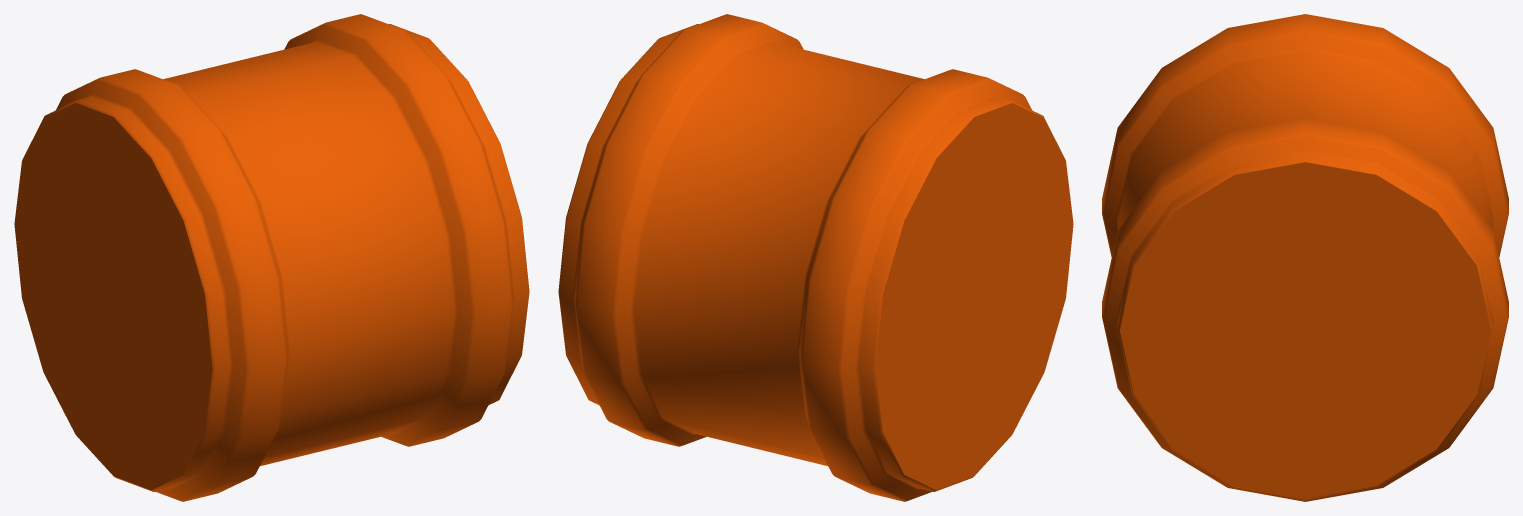
Rendered from PVC_D160_X2.FBX.
3 renders of one model, left to right at view 1: azimuth 30°, elevation 25°; view 2: azimuth 150°, elevation 25°; view 3: azimuth 270°, elevation 25°, orthographic. The views are drawn at different scales.
Visible parts, largest first — view 1: PVC_D160_X2; view 2: PVC_D160_X2; view 3: PVC_D160_X2.
Part boxes in pixels (x1=…): PVC_D160_X2: x1=14, y1=14, x2=529, y2=501; PVC_D160_X2: x1=558, y1=14, x2=1073, y2=501; PVC_D160_X2: x1=1102, y1=14, x2=1508, y2=501.
Bounding box in the file's own units: 15.8 × 18.74 × 18.74.
